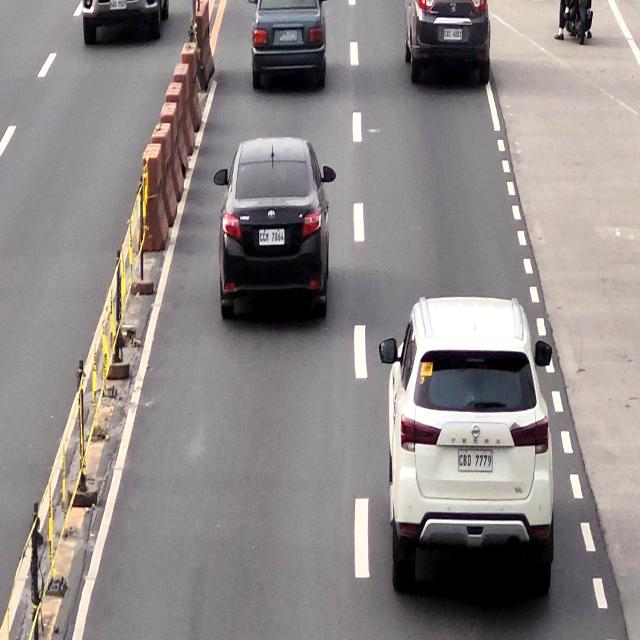Car: (391, 298, 558, 593), (219, 136, 328, 312), (253, 0, 329, 91), (409, 0, 488, 71)
License-Plate: (456, 443, 494, 472), (257, 228, 286, 250), (444, 29, 464, 41)
